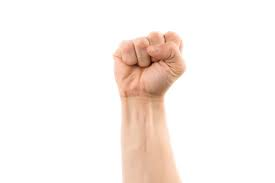fist: (107, 28, 189, 104)
